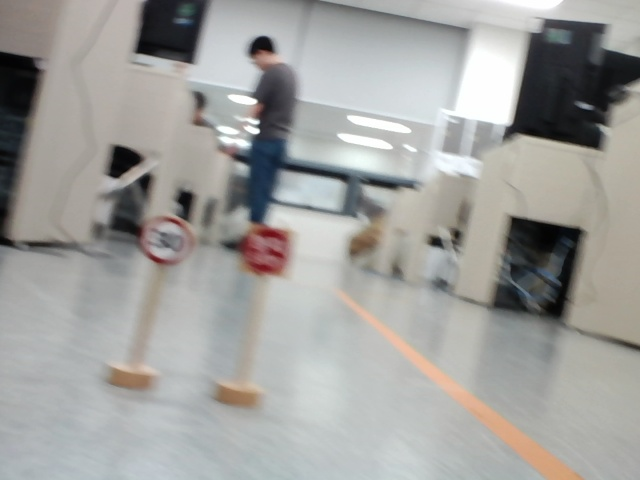limit_sign: (142, 216, 193, 264)
stop_sign: (243, 227, 290, 273)
